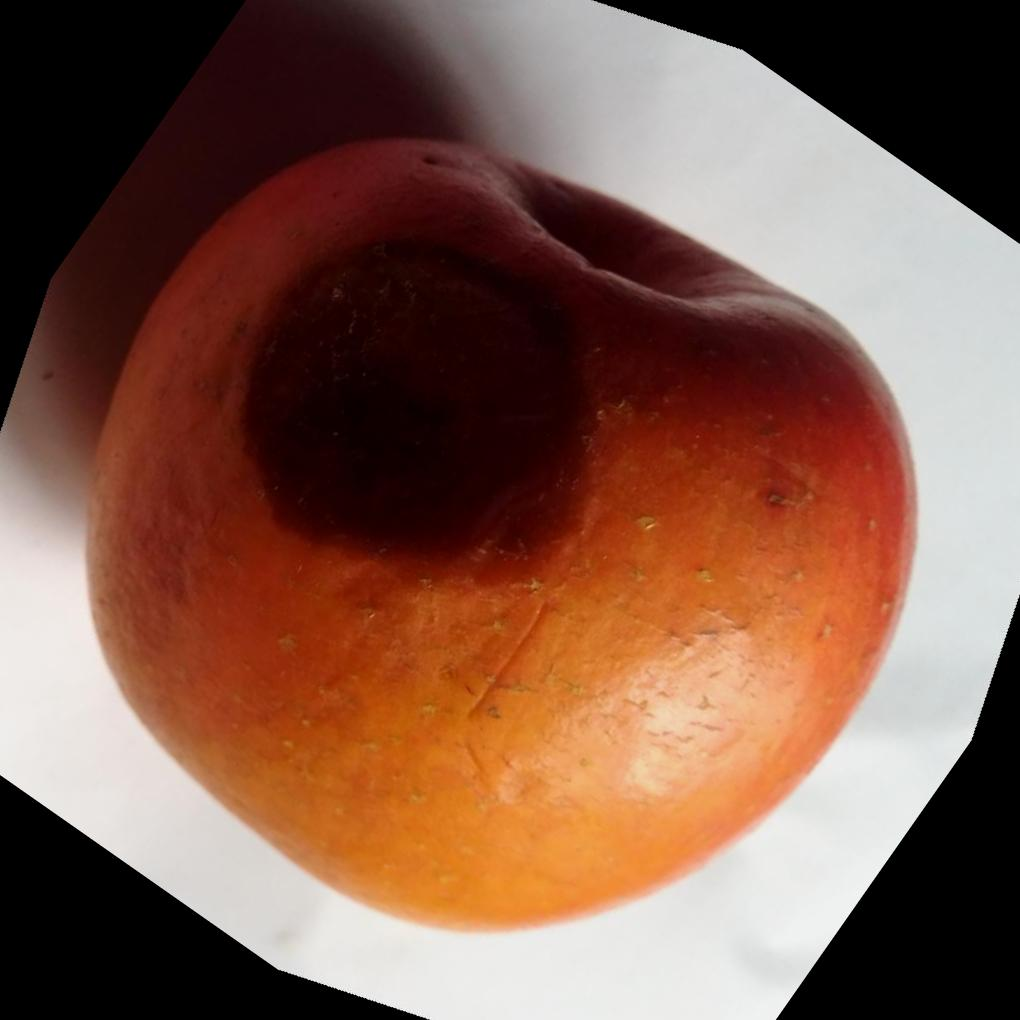FreshOrange: (78, 128, 919, 935)
